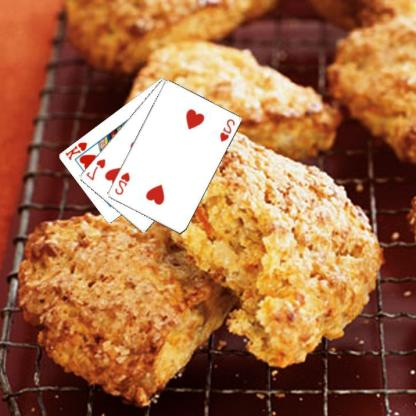2H: (219, 116, 238, 144), (114, 170, 132, 196)
7H: (85, 156, 108, 182)
KH: (64, 140, 90, 162)
